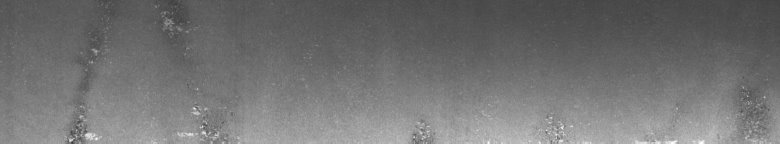hc: (64, 4, 235, 136)
